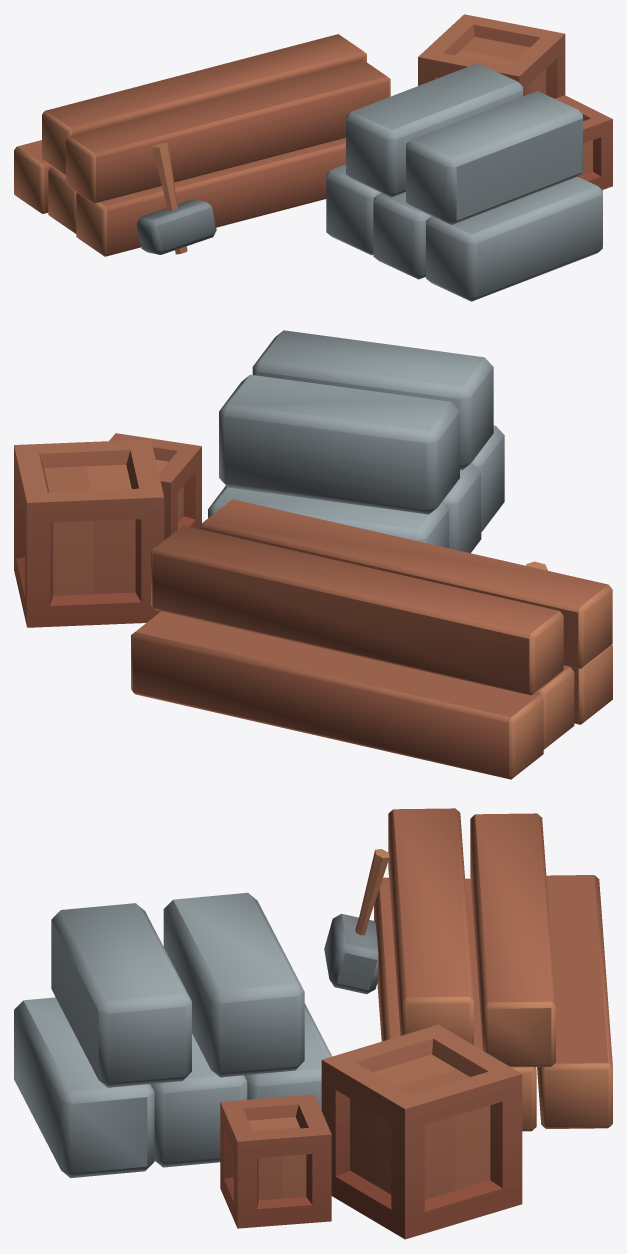
The model's file is kaykit-medieval-hexagon-pack-building-stage-a.glb.
The picture shows the model from 3 angles, top to bottom: view 1: azimuth 30°, elevation 25°; view 2: azimuth 150°, elevation 25°; view 3: azimuth 270°, elevation 25°; orthographic projection. The views are drawn at different scales.
Parts seen in each view (by area): view 1: building_stage_A; view 2: building_stage_A; view 3: building_stage_A.
Part boxes in pixels (x1,y1,x2,y2): building_stage_A: (14, 14, 612, 301); building_stage_A: (14, 330, 612, 779); building_stage_A: (14, 808, 612, 1239).
Bounding box in the file's own units: 1.05 × 0.2859 × 0.875.
1 material, 1 textured.
